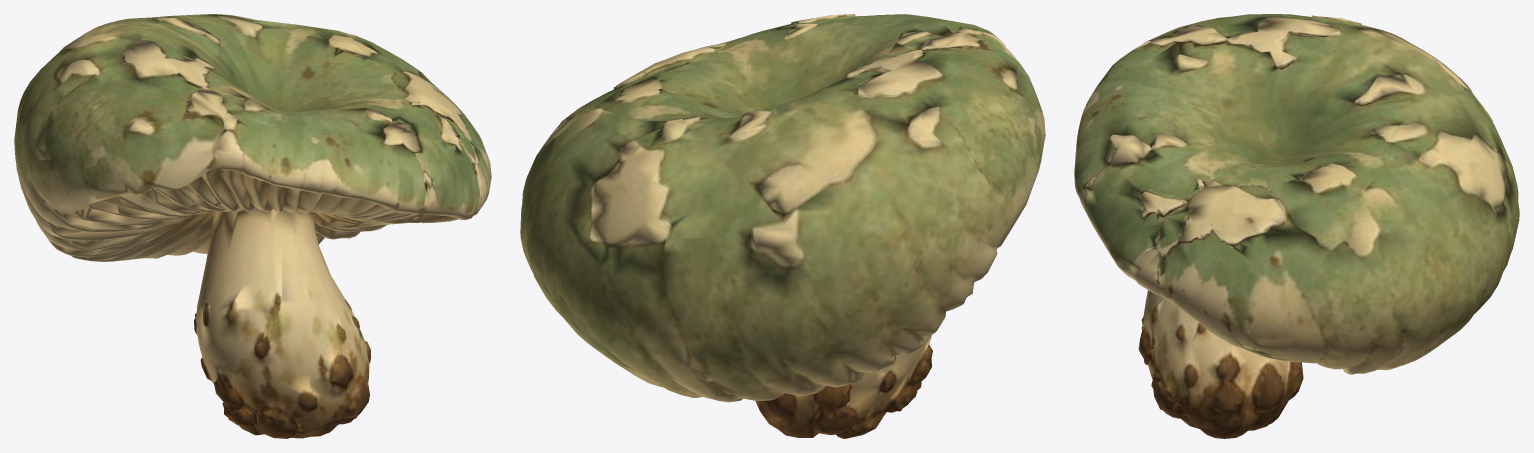
File: greenhead.glb
3 renders of one model, left to right at view 1: azimuth 30°, elevation 25°; view 2: azimuth 150°, elevation 25°; view 3: azimuth 270°, elevation 25°, orthographic. The views are drawn at different scales.
Parts seen in each view (by area): view 1: tripo_node_a4432a15-32df-41db-b48d-ecf56298bb96; view 2: tripo_node_a4432a15-32df-41db-b48d-ecf56298bb96; view 3: tripo_node_a4432a15-32df-41db-b48d-ecf56298bb96.
Part boxes in pixels (left/top/right/bottom): tripo_node_a4432a15-32df-41db-b48d-ecf56298bb96: left=14, top=14, right=491, bottom=438; tripo_node_a4432a15-32df-41db-b48d-ecf56298bb96: left=520, top=14, right=1045, bottom=438; tripo_node_a4432a15-32df-41db-b48d-ecf56298bb96: left=1074, top=14, right=1519, bottom=438.
Size of the model in its own units: 0.9791 by 0.8365 by 0.9643.
1 material, 1 textured.
